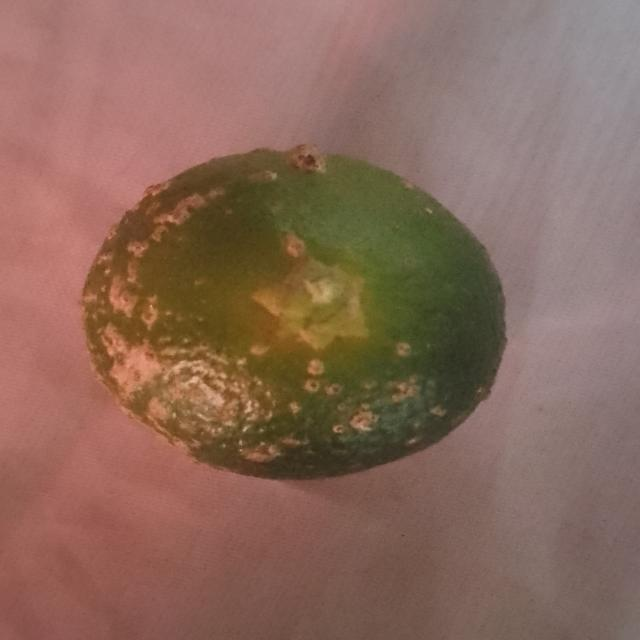scab: (78, 141, 507, 494)
